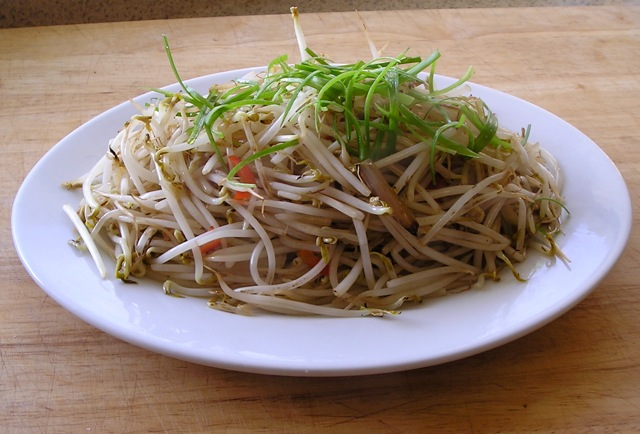mung_bean_sprouts: (143, 141, 544, 287), (217, 164, 474, 302), (111, 153, 298, 281), (367, 136, 550, 265), (106, 109, 335, 199)
